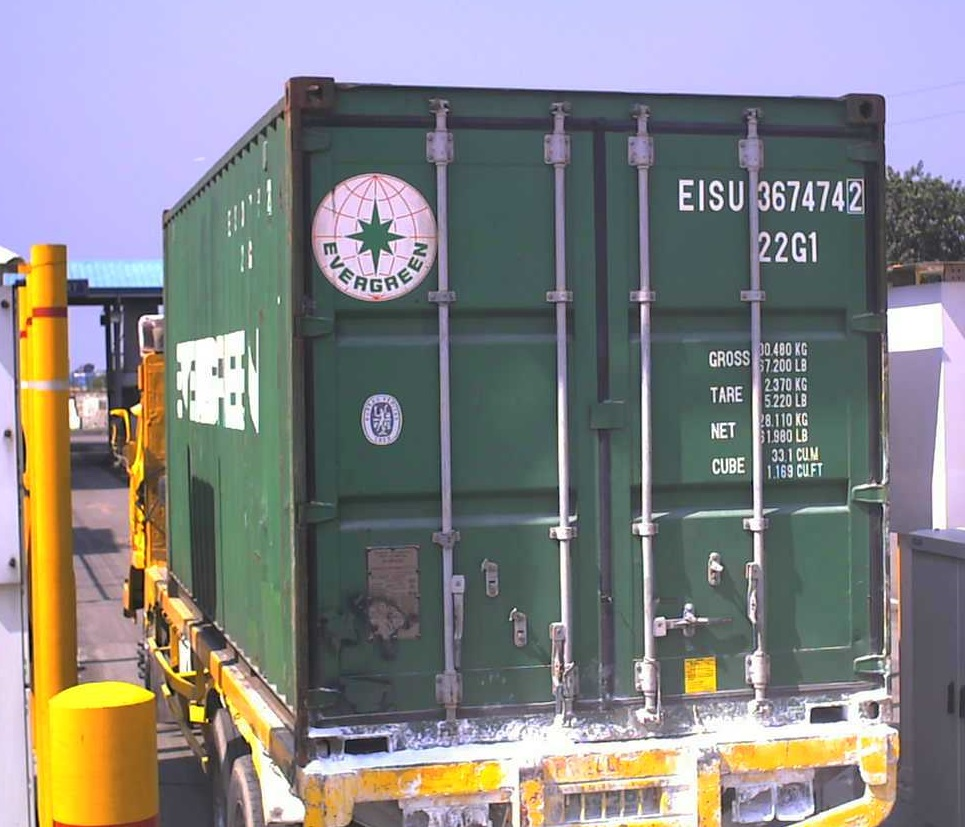container_door: (288, 66, 893, 783)
